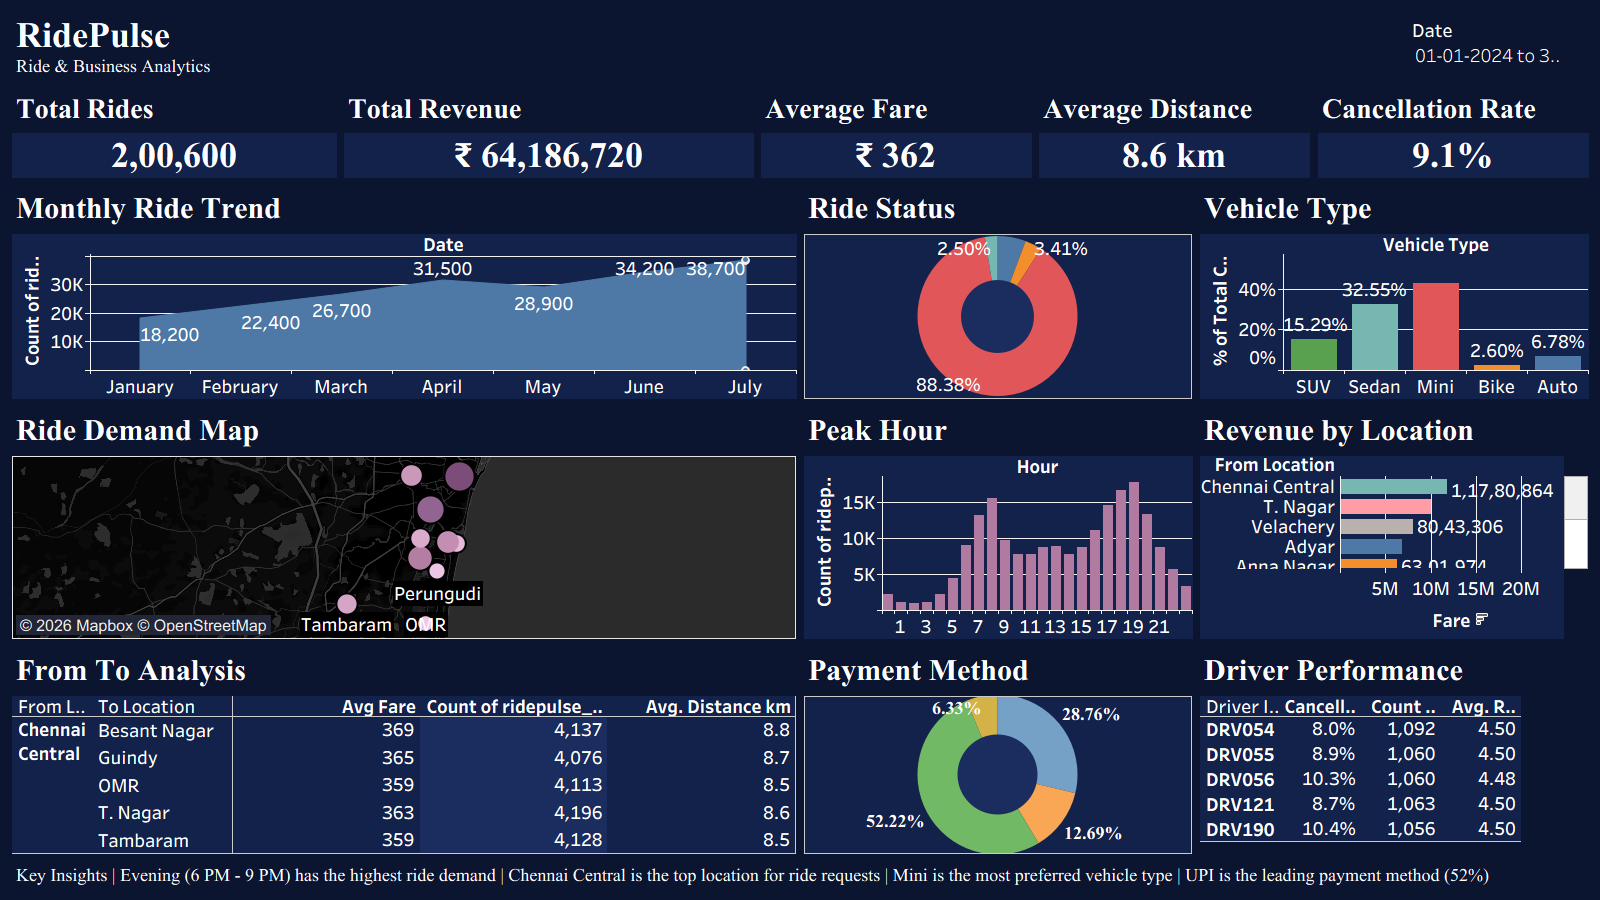

What the dashboard file says about the page in this screenshot:
{"tool":"tableau","page":{"name":"Dashboard 1","canvas":[1600,900],"ordinal":0},"visuals":[{"type":"text","box":[8,8,1584,75]},{"type":"filter","title":"Total Rides","param":"[federated.0v6z1wf0sgd13n12lztiq0doodx1].[none:Date:qk]","box":[1408,12,160,73]},{"type":"worksheet","title":"Total Rides","mark":"Automatic","box":[8,83,332,97.7]},{"type":"worksheet","title":"Total Revenue","mark":"Automatic","box":[340,83,417,97.7]},{"type":"worksheet","title":"Average Fare","mark":"Automatic","box":[757,83,278.3,97.7]},{"type":"worksheet","title":"Average Distance","mark":"Automatic","box":[1035.3,83,278.3,97.7]},{"type":"worksheet","title":"Cancellation Rate","mark":"Automatic","box":[1313.6,83,278.3,97.7]},{"type":"worksheet","title":"Monthly Ride Trend","mark":"Area","rows":["ridepulse_rides (1).csv_BFBAC181A15841758016F81ED7B2DE93"],"cols":["Date"],"box":[8,180.7,792,222.2]},{"type":"worksheet","title":"Ride Status","mark":"Pie","rows":["Calculation_1191378894630917","Calculation_1191378894553091"],"box":[800,180.7,396,222.2]},{"type":"worksheet","title":"Vehicle Type","mark":"Automatic","rows":["ridepulse_rides (1).csv_BFBAC181A15841758016F81ED7B2DE93"],"cols":["Vehicle_Type"],"box":[1196,180.7,396,222.2]},{"type":"worksheet","title":"Ride Demand Map","mark":"Automatic","rows":["Calculation_0926396655443968"],"cols":["Calculation_0926396655624193"],"box":[8,403,792,239.5]},{"type":"worksheet","title":"Peak Hour","mark":"Bar","rows":["ridepulse_rides (1).csv_BFBAC181A15841758016F81ED7B2DE93"],"cols":["Hour"],"box":[800,403,396,239.5]},{"type":"worksheet","title":"Revenue by Location","mark":"Automatic","rows":["From_Location"],"cols":["Fare"],"box":[1196,403,396,239.5]},{"type":"worksheet","title":"From To Analysis","mark":"Automatic","rows":["From_Location","To_Location"],"box":[8,642.5,792,215.5]},{"type":"worksheet","title":"Payment Method","mark":"Pie","rows":["Calculation_1195227547967492","Calculation_1195227547906050"],"box":[800,642.5,396,215.5]},{"type":"worksheet","title":"Driver Performance","mark":"Automatic","rows":["Driver_ID"],"box":[1196,642.5,396,215.5]},{"type":"text","box":[8,858,1584,34]}]}

Visuals, with their boxes in screenshot pixels (x1, y1, x2, y2), scaled from the page's 1600x900 canvas onto the 1600x900 screenshot:
text: {"left": 8, "top": 8, "right": 1592, "bottom": 83}
"Total Rides" filter: {"left": 1408, "top": 12, "right": 1568, "bottom": 85}
"Total Rides" worksheet: {"left": 8, "top": 83, "right": 340, "bottom": 181}
"Total Revenue" worksheet: {"left": 340, "top": 83, "right": 757, "bottom": 181}
"Average Fare" worksheet: {"left": 757, "top": 83, "right": 1035, "bottom": 181}
"Average Distance" worksheet: {"left": 1035, "top": 83, "right": 1314, "bottom": 181}
"Cancellation Rate" worksheet: {"left": 1314, "top": 83, "right": 1592, "bottom": 181}
"Monthly Ride Trend" worksheet (Area marks): {"left": 8, "top": 181, "right": 800, "bottom": 403}
"Ride Status" worksheet (Pie marks): {"left": 800, "top": 181, "right": 1196, "bottom": 403}
"Vehicle Type" worksheet: {"left": 1196, "top": 181, "right": 1592, "bottom": 403}
"Ride Demand Map" worksheet: {"left": 8, "top": 403, "right": 800, "bottom": 642}
"Peak Hour" worksheet (Bar marks): {"left": 800, "top": 403, "right": 1196, "bottom": 642}
"Revenue by Location" worksheet: {"left": 1196, "top": 403, "right": 1592, "bottom": 642}
"From To Analysis" worksheet: {"left": 8, "top": 642, "right": 800, "bottom": 858}
"Payment Method" worksheet (Pie marks): {"left": 800, "top": 642, "right": 1196, "bottom": 858}
"Driver Performance" worksheet: {"left": 1196, "top": 642, "right": 1592, "bottom": 858}
text: {"left": 8, "top": 858, "right": 1592, "bottom": 892}
